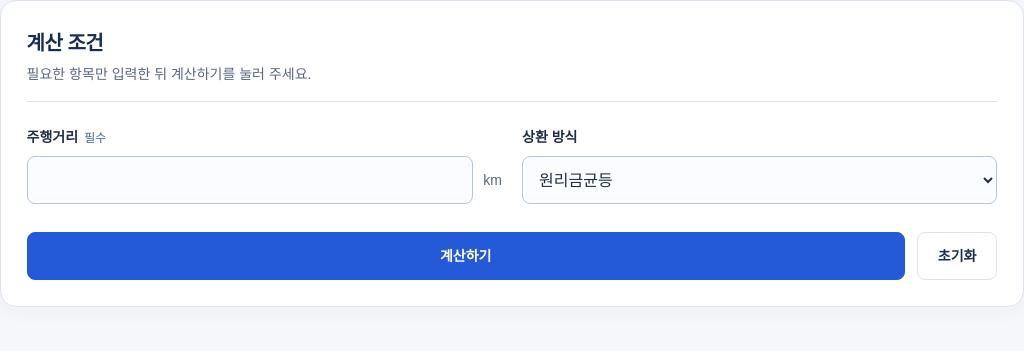
Test: rejects nonnumeric input, supports select fields, and resets values and errors
Type "abc" into the field.
click(250, 180); type("abc")  # box top-left (27, 156), bottom-right (473, 204)
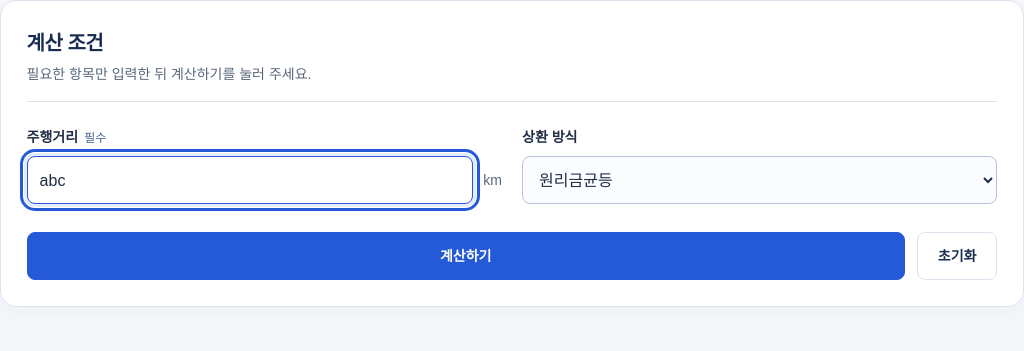
Select "원금균등" in the dropdown at (760, 180), box top-left (522, 156), bottom-right (997, 204)
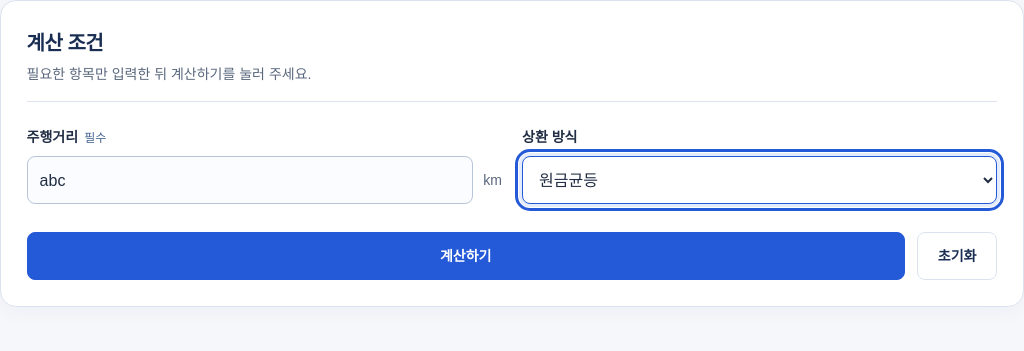
Click the button "계산하기".
click(466, 256)  # box top-left (27, 232), bottom-right (905, 280)
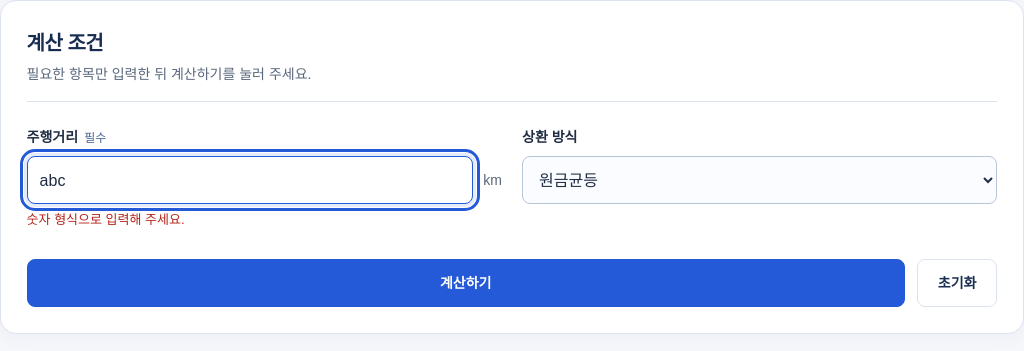
Click the button "초기화".
click(957, 283)  # box top-left (917, 259), bottom-right (997, 307)
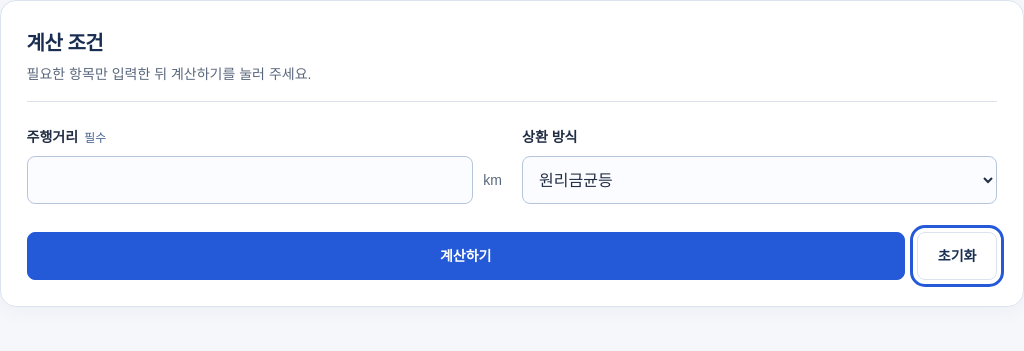
Expected: the field is empty, top-left (27, 156), bottom-right (473, 204)
